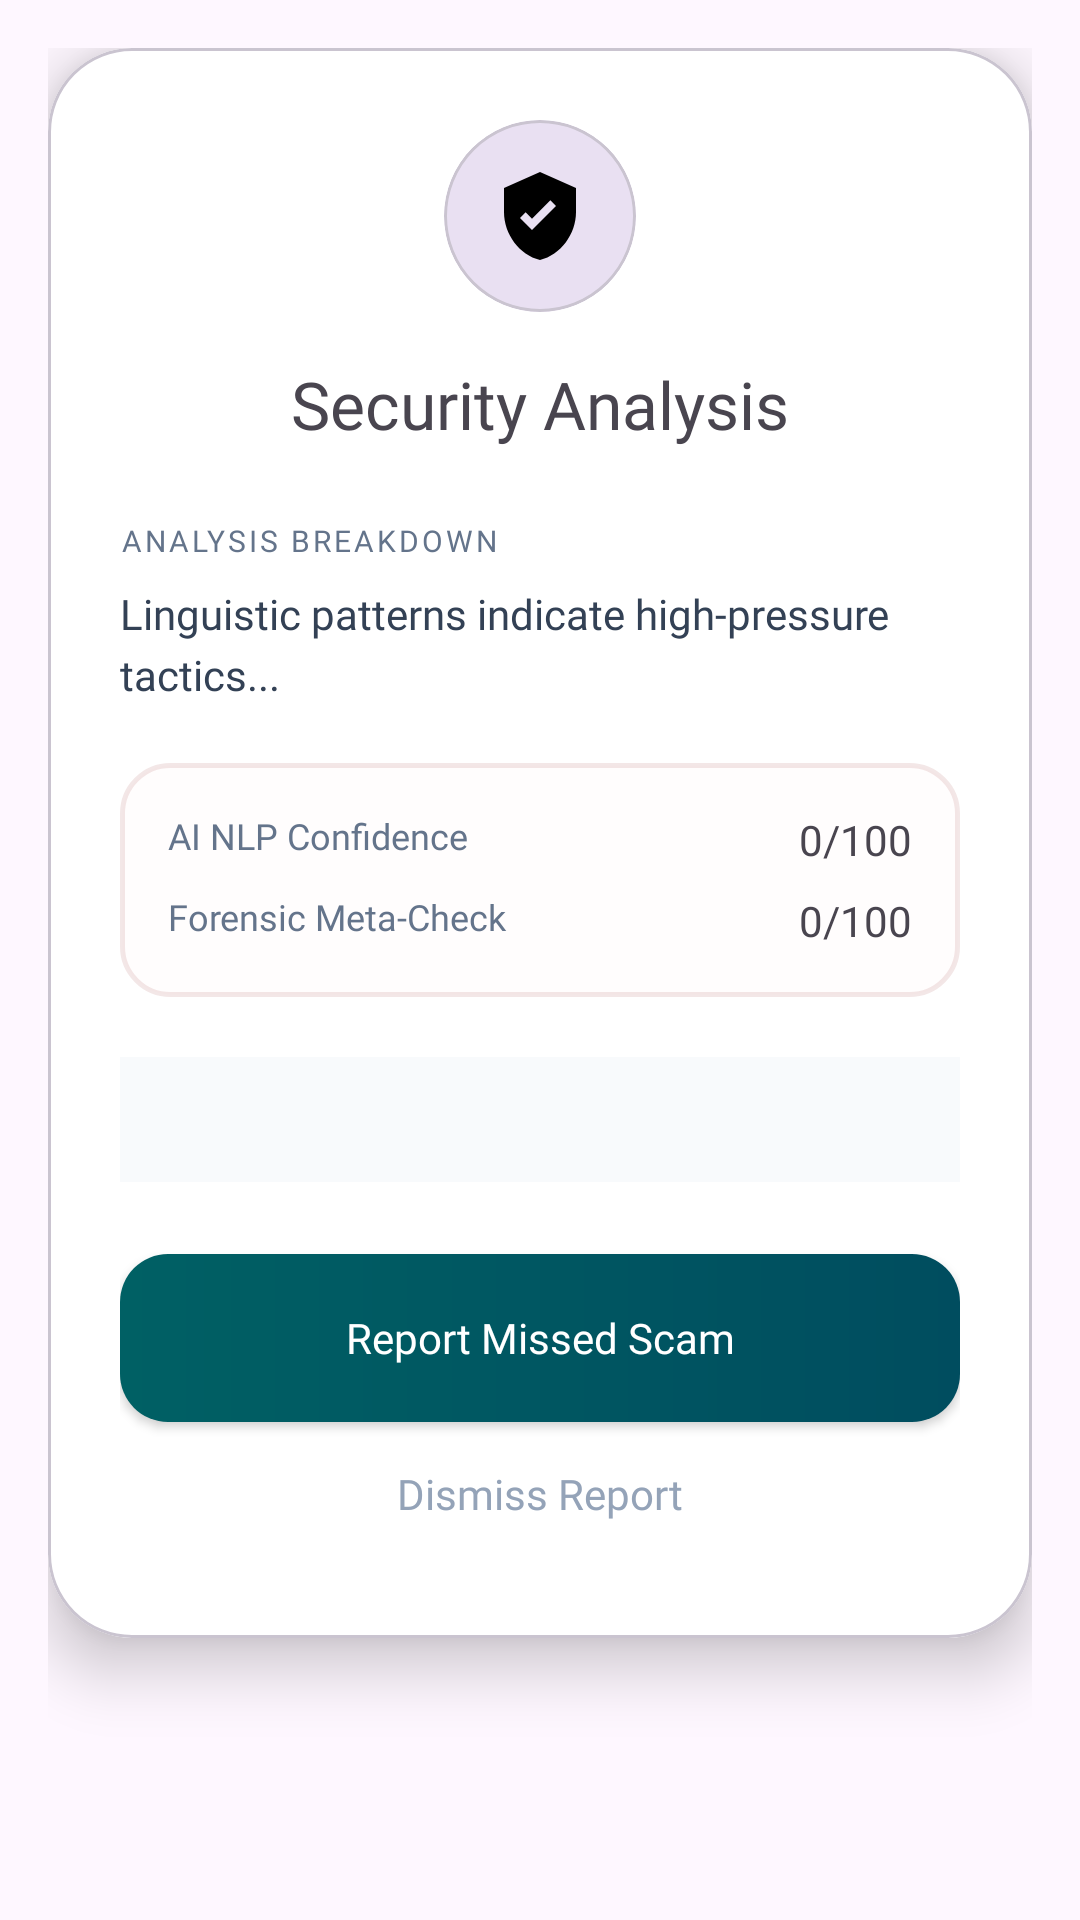

Where to tap for icons on this 1080px×1920px app screen, as (x=x, y=y):
shield check: (x=540, y=216)
